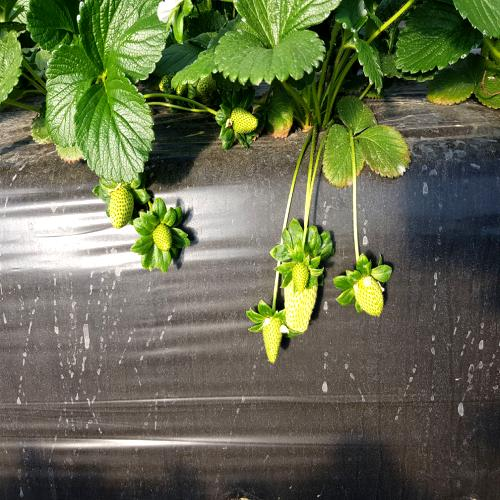unripe: (279, 257, 322, 338), (347, 267, 392, 324), (256, 300, 292, 362), (104, 176, 138, 237), (225, 106, 265, 142)
